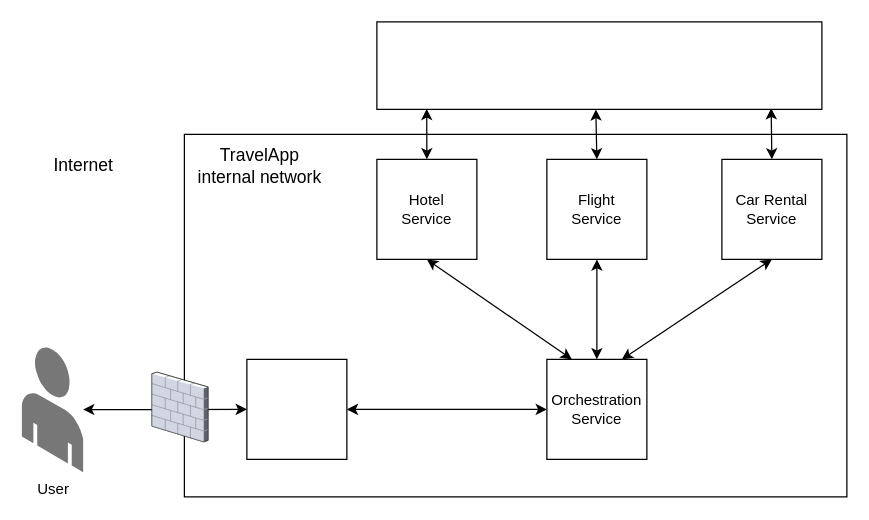
Some shapes in this 869 by 520 pixel diagram are drawn without their labels. Each missing label, with the centre of its shape:
"External vendor integration" belongs at pixel 599 65.
"Firewall" belongs at pixel 179 406.
"Interface Service" belongs at pixel 296 408.
